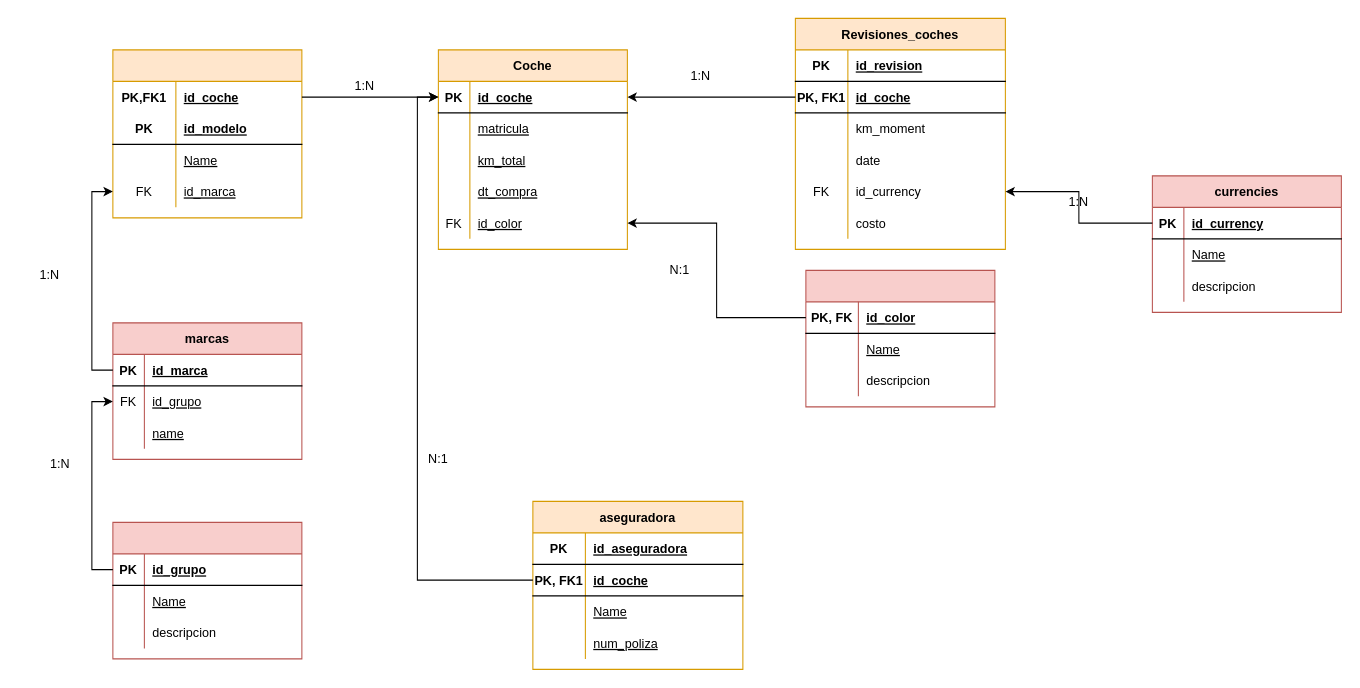
Image size: 1360x688. Some labels were removed from this diagram. The box of each missing label's shape, as (x1, y1, x2, y2) in pixels:
colors: (805, 269, 995, 407)
Grupos: (112, 521, 302, 659)
modelos: (112, 49, 302, 218)
